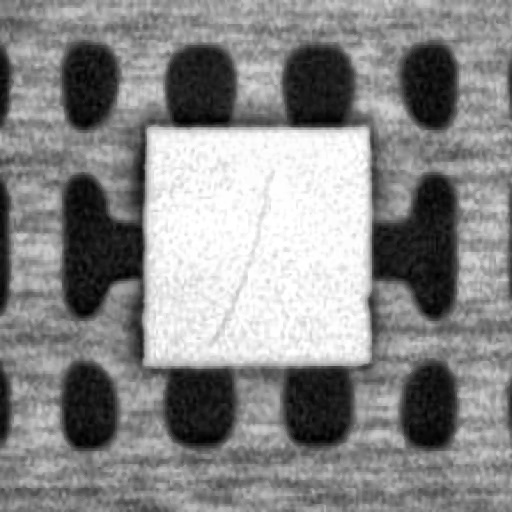DIE_CRACK: (208, 162, 270, 347)
